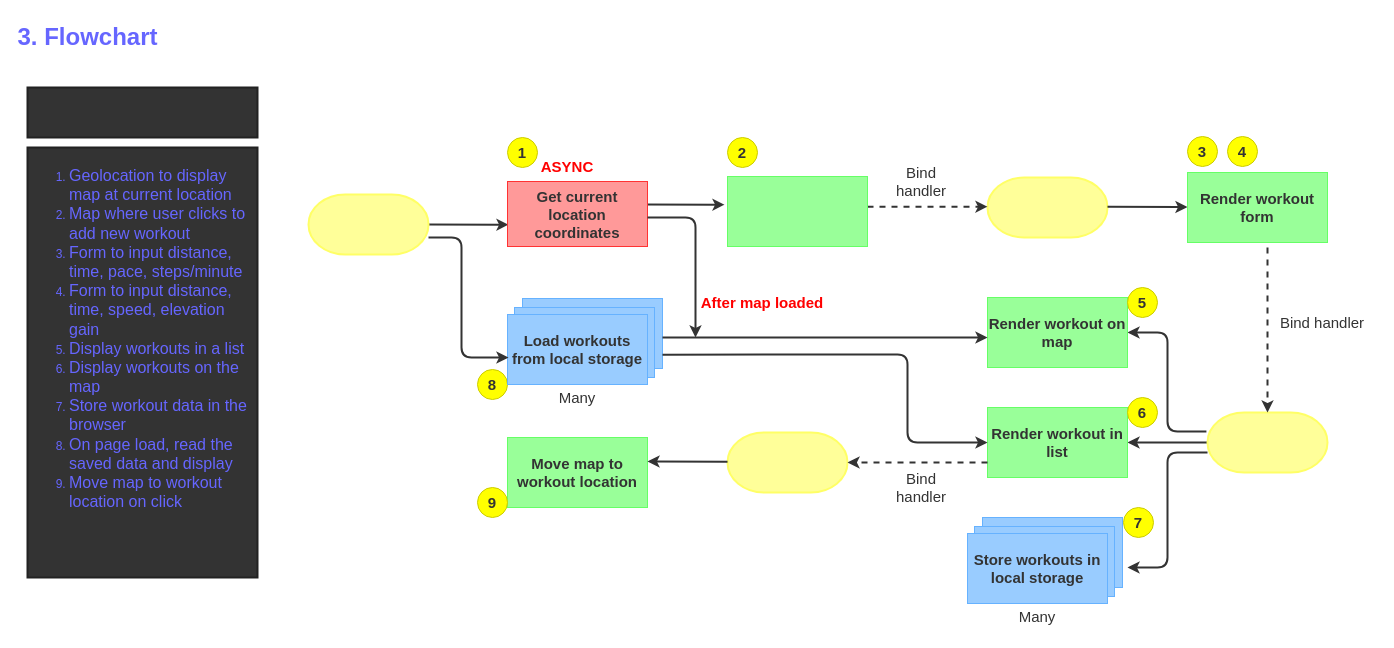
The diagram is 1394 pixels wide and 648 high, and some of its shapes have lost their labels. The shapes that lost their labels are listed below. From the top down, each one's centre as x and y in pixels, then its label:
At (x=142, y=112): "FEATURES".
At (x=368, y=224): "Page loads".
At (x=797, y=211): "Render map on current location".
At (x=1047, y=207): "User clicks on map".
At (x=787, y=462): "User clicks on workout in list".
At (x=1267, y=442): "User submits new workout".
